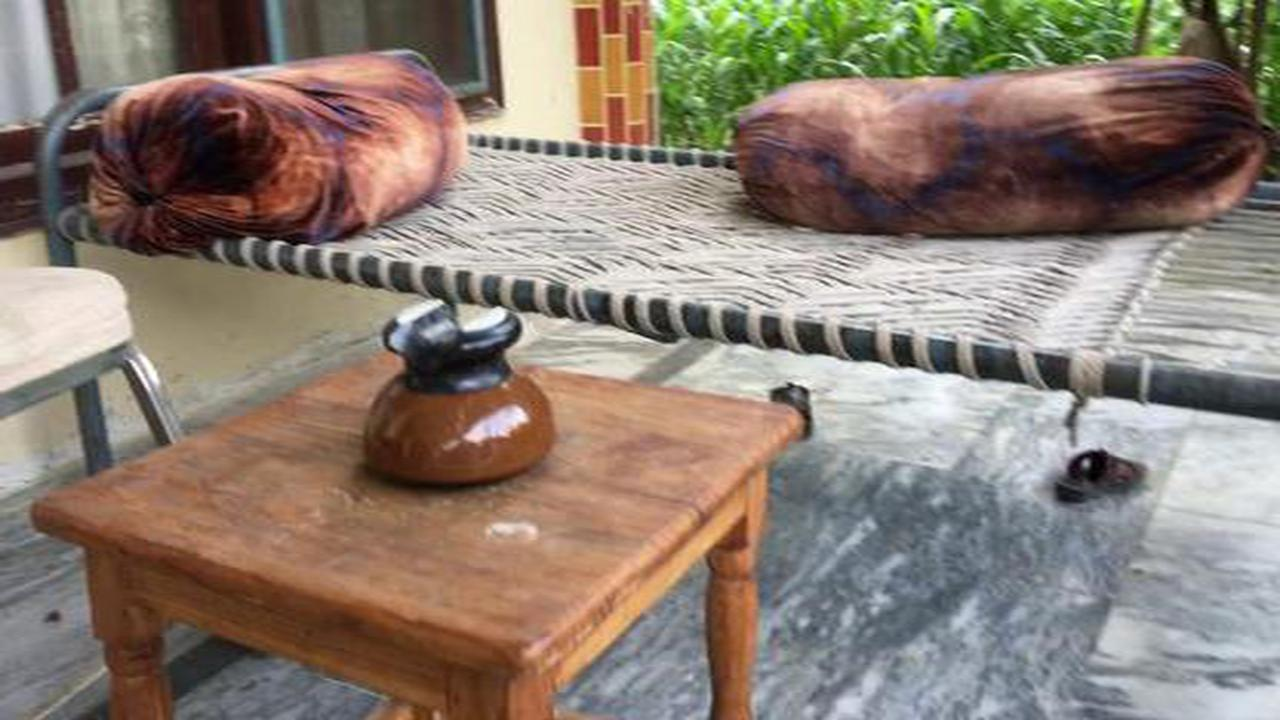insulator_pin: (345, 279, 570, 501)
